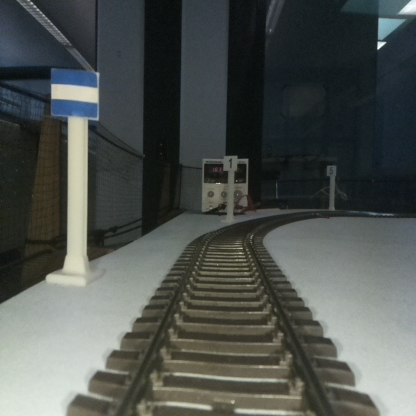start: (50, 72, 98, 280)
white-info-1: (223, 156, 237, 223)
white-info-5: (327, 164, 336, 210)
